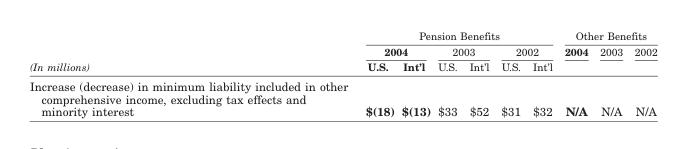table: (28, 29, 656, 118)
table column: (28, 29, 356, 118), (356, 29, 397, 118), (397, 29, 433, 118), (557, 29, 593, 118), (593, 29, 628, 118), (462, 29, 494, 118), (525, 29, 557, 118), (494, 29, 525, 118), (433, 29, 462, 118), (628, 29, 656, 118)
table column header: (28, 29, 656, 75)
table row: (28, 75, 656, 118), (28, 58, 656, 75), (28, 43, 656, 58), (28, 29, 656, 43)
table spanning cell: (28, 29, 356, 75), (356, 29, 557, 43), (557, 29, 656, 43), (356, 43, 433, 58), (557, 43, 593, 75), (593, 43, 628, 75), (494, 43, 557, 58), (433, 43, 494, 58), (628, 43, 656, 75)
